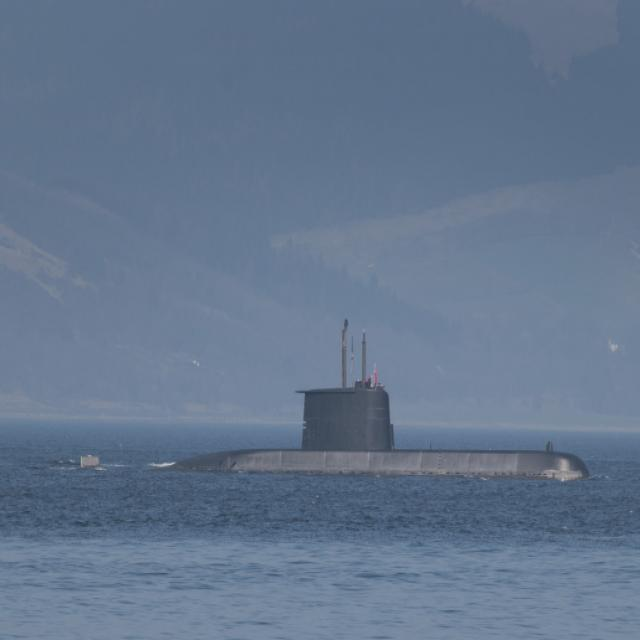submarine: (57, 327, 599, 485)
